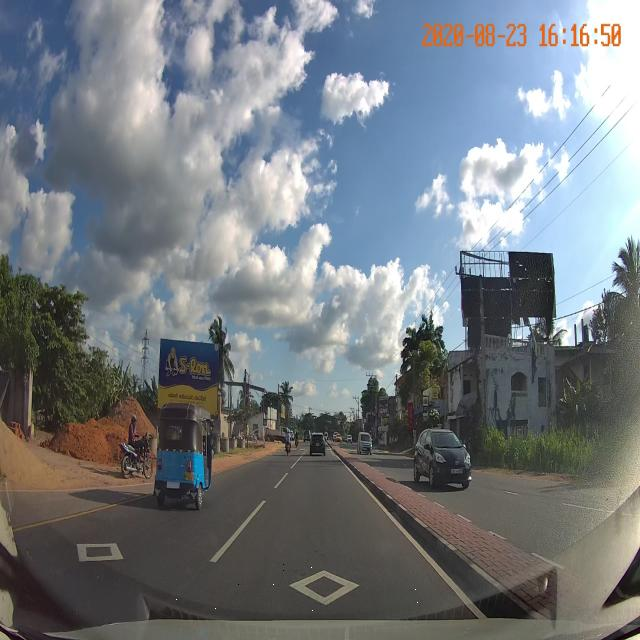diamond: (159, 556, 484, 612)
